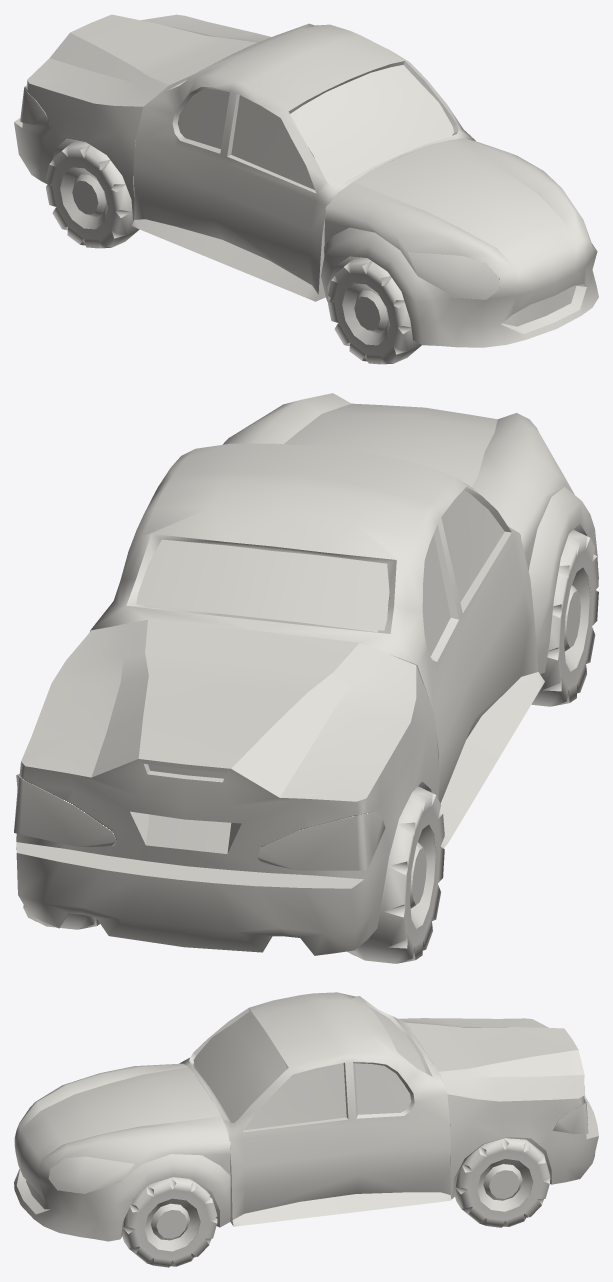
File: Car .glb
The picture shows the model from 3 angles, top to bottom: view 1: azimuth 30°, elevation 25°; view 2: azimuth 150°, elevation 25°; view 3: azimuth 270°, elevation 25°; orthographic projection. The views are drawn at different scales.
Visible parts, largest first — view 1: node_id74, node_id60, node_id54, node_id70, node_id78, node_id68, node_id72, node_id64, node_id66, node_id76, node_id56; view 2: node_id54, node_id74, node_id60, node_id70, node_id78, node_id68, node_id56, node_id58, node_id72, node_id66, node_id76; view 3: node_id74, node_id60, node_id54, node_id70, node_id82, node_id86, node_id72, node_id62, node_id80, node_id84, node_id58.
Boxes of the visible parts, box(x1,y1,x2,y2) form: node_id74: box(132, 23, 475, 301); node_id60: box(321, 138, 598, 347); node_id54: box(14, 14, 271, 221); node_id70: box(290, 65, 453, 185); node_id78: box(46, 142, 139, 248); node_id68: box(328, 257, 421, 364); node_id72: box(231, 95, 314, 189); node_id64: box(407, 252, 499, 299); node_id66: box(342, 283, 389, 345); node_id76: box(60, 167, 107, 229); node_id56: box(20, 86, 50, 125); node_id54: box(16, 620, 439, 955); node_id74: box(90, 443, 544, 847); node_id60: box(222, 393, 598, 673); node_id70: box(136, 539, 389, 630); node_id78: box(347, 786, 444, 963); node_id68: box(531, 529, 598, 706); node_id56: box(256, 811, 385, 870); node_id58: box(14, 774, 117, 846); node_id72: box(441, 489, 504, 601); node_id66: box(564, 567, 589, 671); node_id76: box(410, 824, 435, 928); node_id74: box(179, 992, 451, 1226); node_id60: box(14, 1063, 230, 1241); node_id54: box(398, 1018, 598, 1199); node_id70: box(193, 1006, 426, 1122); node_id82: box(455, 1138, 550, 1227); node_id86: box(122, 1177, 217, 1267); node_id72: box(244, 1063, 346, 1130); node_id62: box(49, 1156, 134, 1193); node_id80: box(477, 1159, 532, 1211); node_id84: box(144, 1198, 200, 1251); node_id58: box(552, 1098, 588, 1134).
Size of the model in its own units: 0.2923 by 0.182 by 0.5109.
17 materials, 17 textured.
